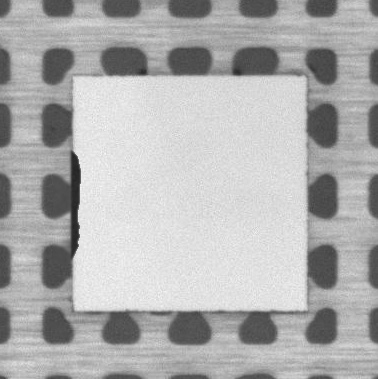DIE_BROKEN: (68, 146, 83, 261)
